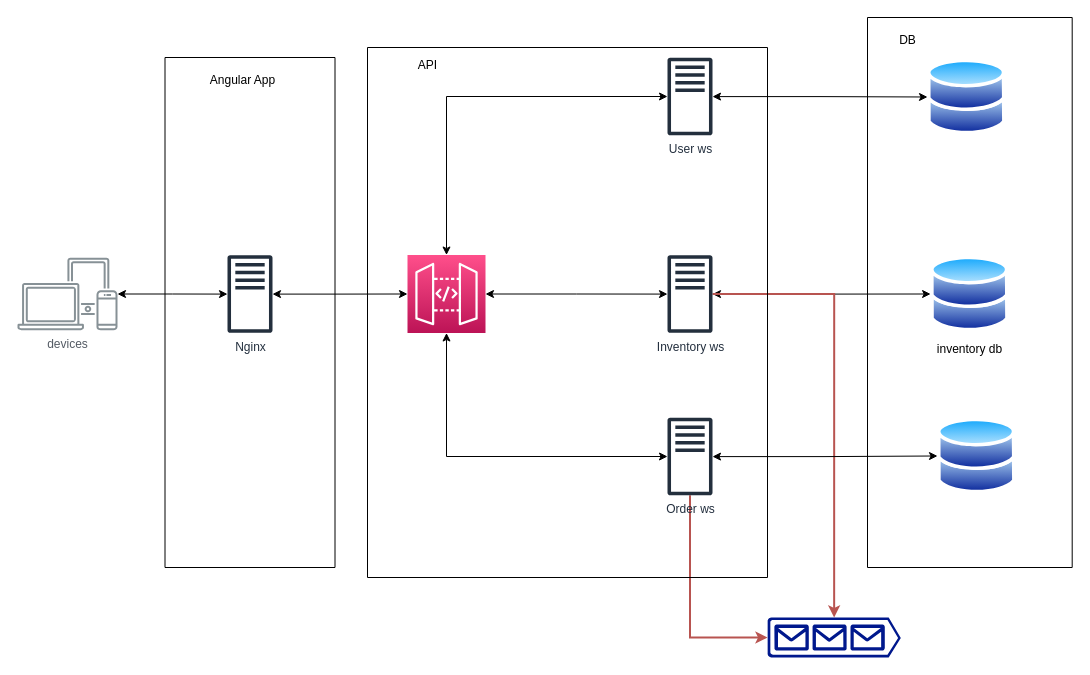
Image size: 1090x675. Some labels were removed from this diagram. The box of each missing label's shape, as (x1, y1, x2, y2) in pixels:
API gateway: (406, 254, 486, 333)
order db: (937, 417, 1016, 494)
user db: (927, 58, 1006, 135)
